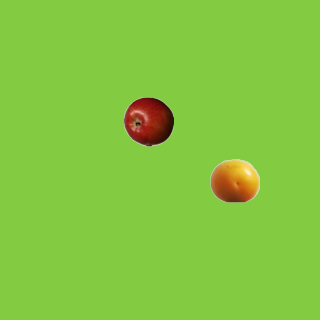Apple Braeburn: (123, 96, 173, 146)
Cherry Wax Yellow: (209, 155, 259, 205)
